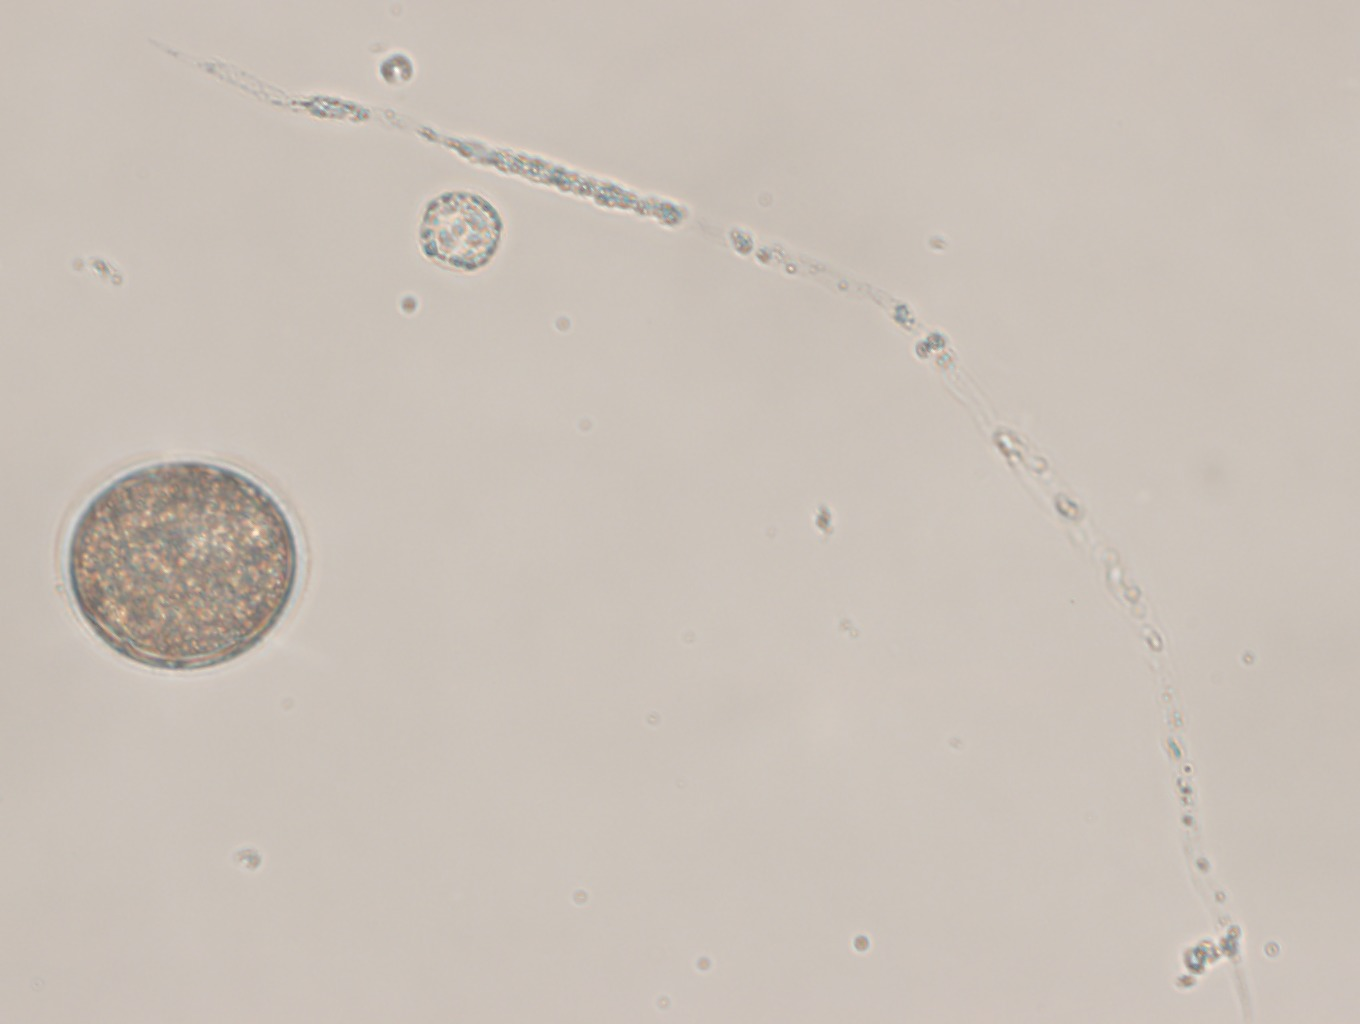coscinodiscus: (66, 455, 299, 673)
